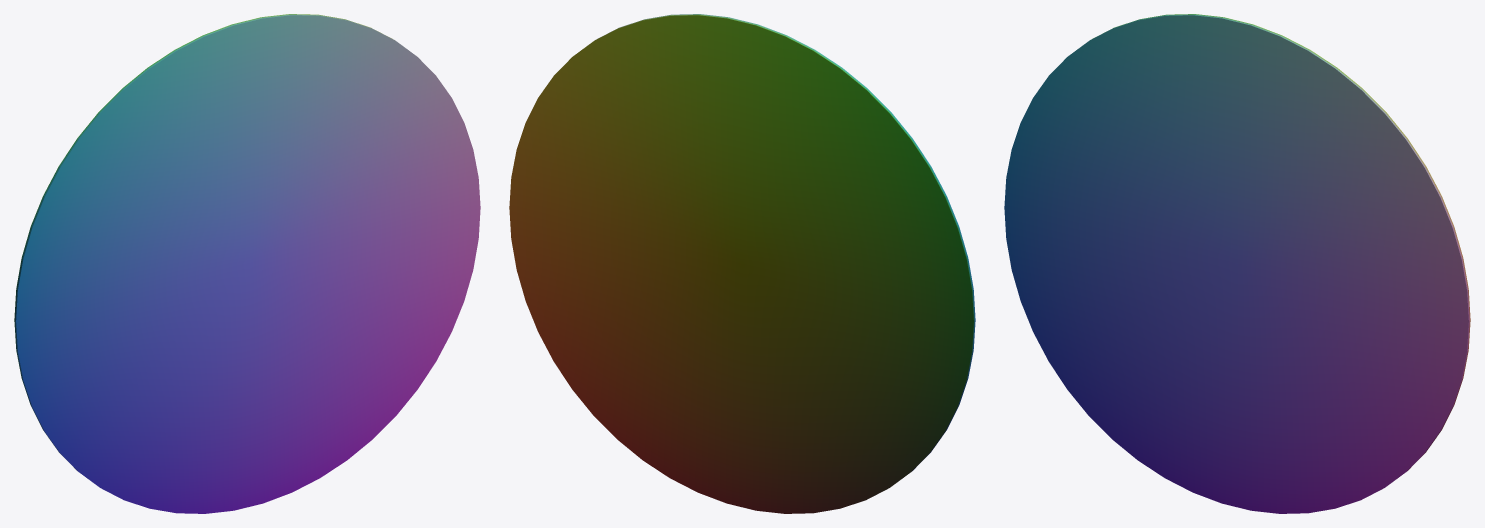
File: zeometry-flat-shapes-flat-oval_v1.glb
3 renders of one model, left to right at view 1: azimuth 30°, elevation 25°; view 2: azimuth 150°, elevation 25°; view 3: azimuth 330°, elevation 25°, orthographic.
Parts seen in each view (by area): view 1: Flat Oval_v1; view 2: Flat Oval_v1; view 3: Flat Oval_v1.
Boxes of the visible parts, box(x1,y1,x2,y2) form: Flat Oval_v1: box(14, 14, 480, 513); Flat Oval_v1: box(509, 14, 975, 513); Flat Oval_v1: box(1004, 14, 1470, 513).
Bounding box in the file's own units: 0.5 × 0.499 × 0.00315.
